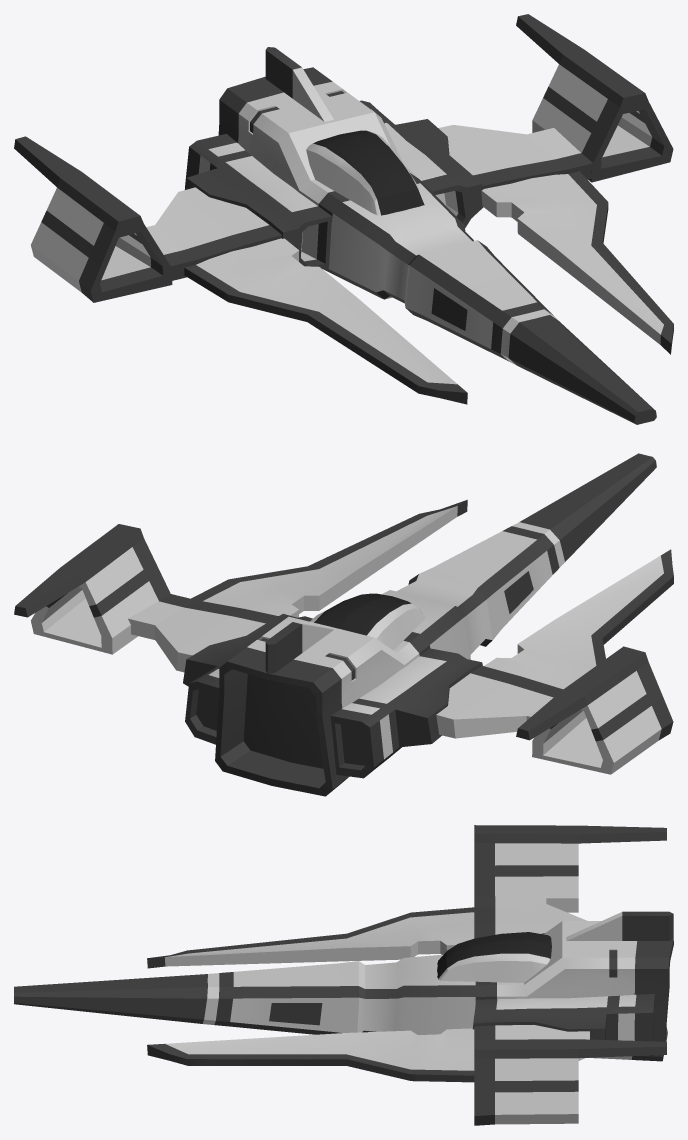
File: SpaceshipB_6.glb
3 renders of one model, top to bottom at view 1: azimuth 30°, elevation 25°; view 2: azimuth 150°, elevation 25°; view 3: azimuth 270°, elevation 25°, orthographic. The views are drawn at different scales.
Visible parts, largest first — view 1: Spaceship_RaeTheRedPanda; view 2: Spaceship_RaeTheRedPanda; view 3: Spaceship_RaeTheRedPanda.
Part boxes in pixels (x1,y1,x2,y2): Spaceship_RaeTheRedPanda: [14, 14, 673, 424]; Spaceship_RaeTheRedPanda: [14, 453, 673, 796]; Spaceship_RaeTheRedPanda: [14, 825, 673, 1125].
Size of the model in its own units: 9.95 by 2.35 by 11.17.
Materials: 1 (1 with a texture image).
